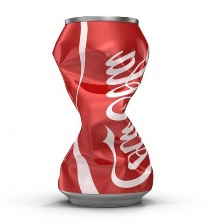can: (48, 13, 156, 209)
